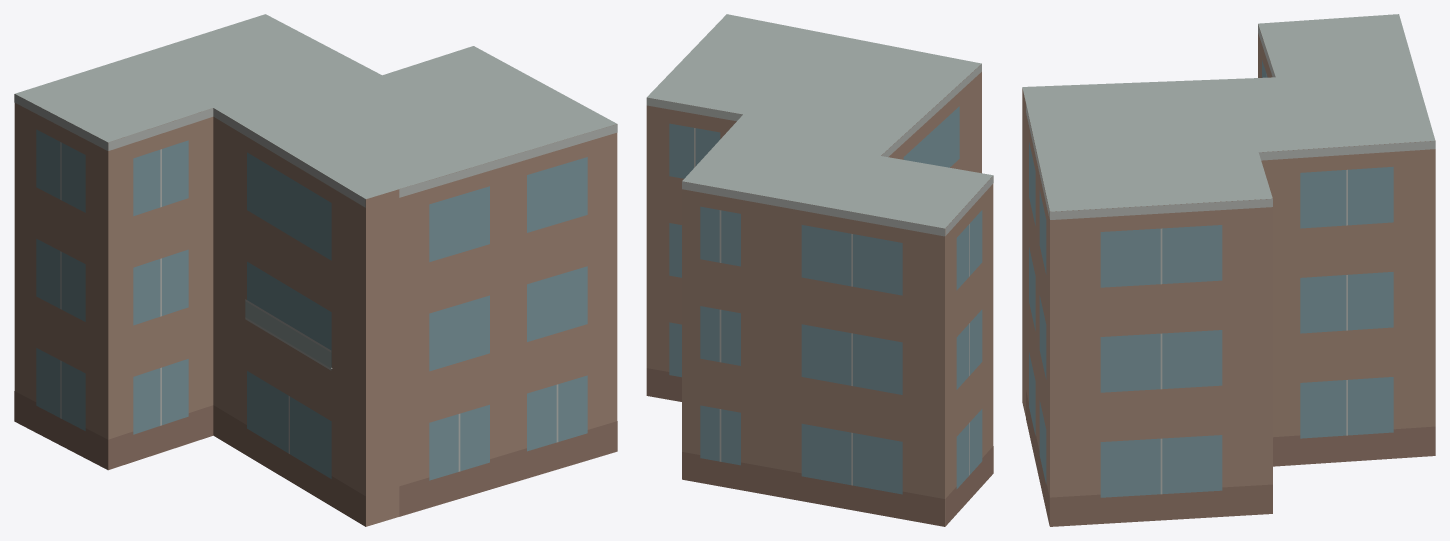
File: survey-upis-32785376.glb
3 renders of one model, left to right at view 1: azimuth 30°, elevation 25°; view 2: azimuth 150°, elevation 25°; view 3: azimuth 270°, elevation 25°, orthographic. The views are drawn at different scales.
Parts seen in each view (by area): view 1: survey-upis-32785376.tmp; view 2: survey-upis-32785376.tmp; view 3: survey-upis-32785376.tmp.
Part boxes in pixels (<box>): survey-upis-32785376.tmp: <box>14,14,617,526</box>; survey-upis-32785376.tmp: <box>646,14,993,526</box>; survey-upis-32785376.tmp: <box>1022,14,1435,526</box>.
Size of the model in its own units: 12.32 by 9.15 by 10.88.
